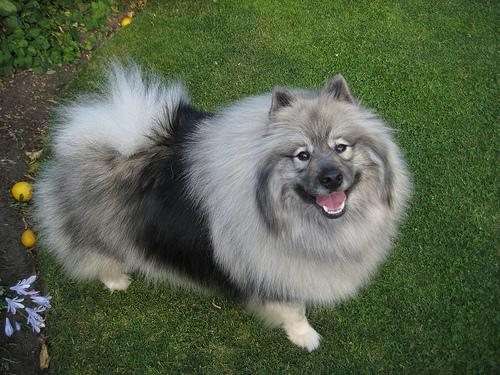dog-keeshond: (268, 71, 371, 217)
